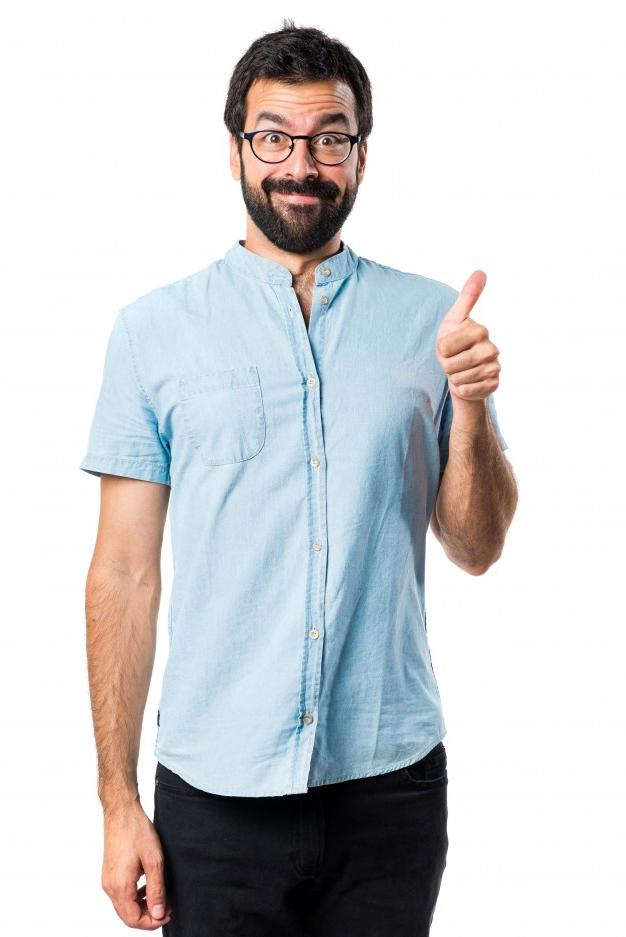thumbsup: (437, 270, 500, 397)
